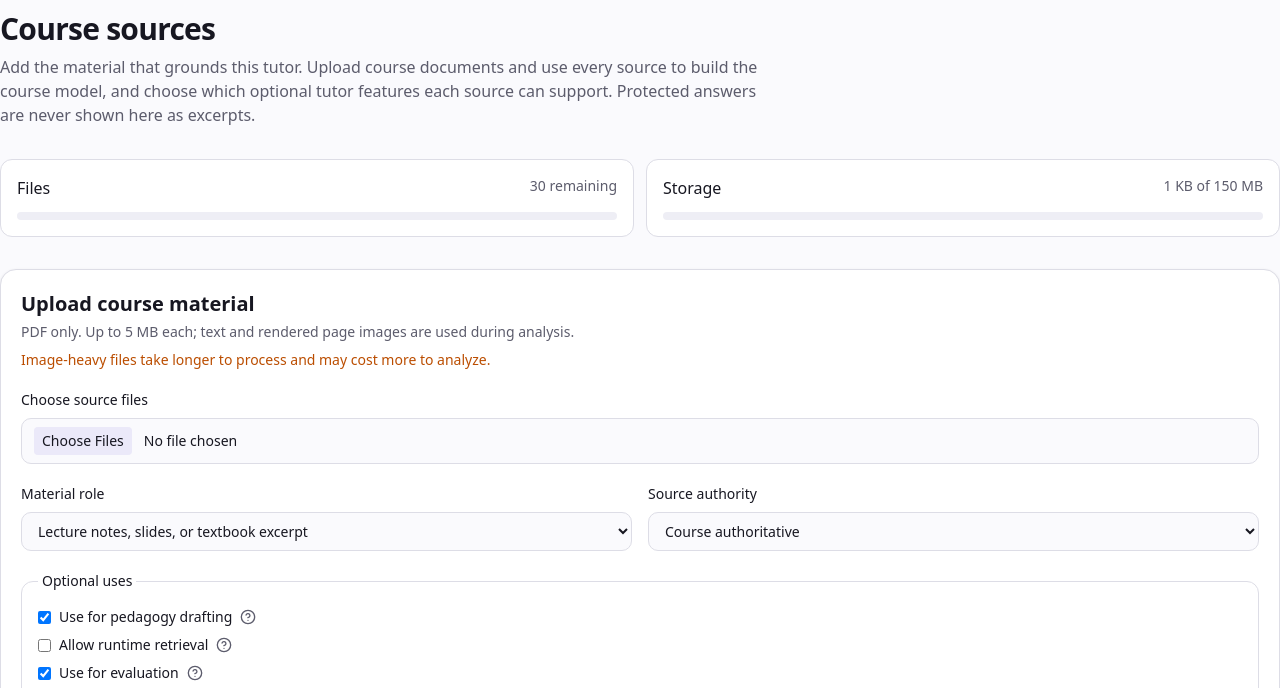
Test case: SourceWorkspace › uses every source for the course model and explains optional uses
The image size is (1280, 688).
Click the button named "About Allow runtime retrieval". click: [224, 645]
box: x1=216 y1=637 x2=232 y2=653
(page scrolled)
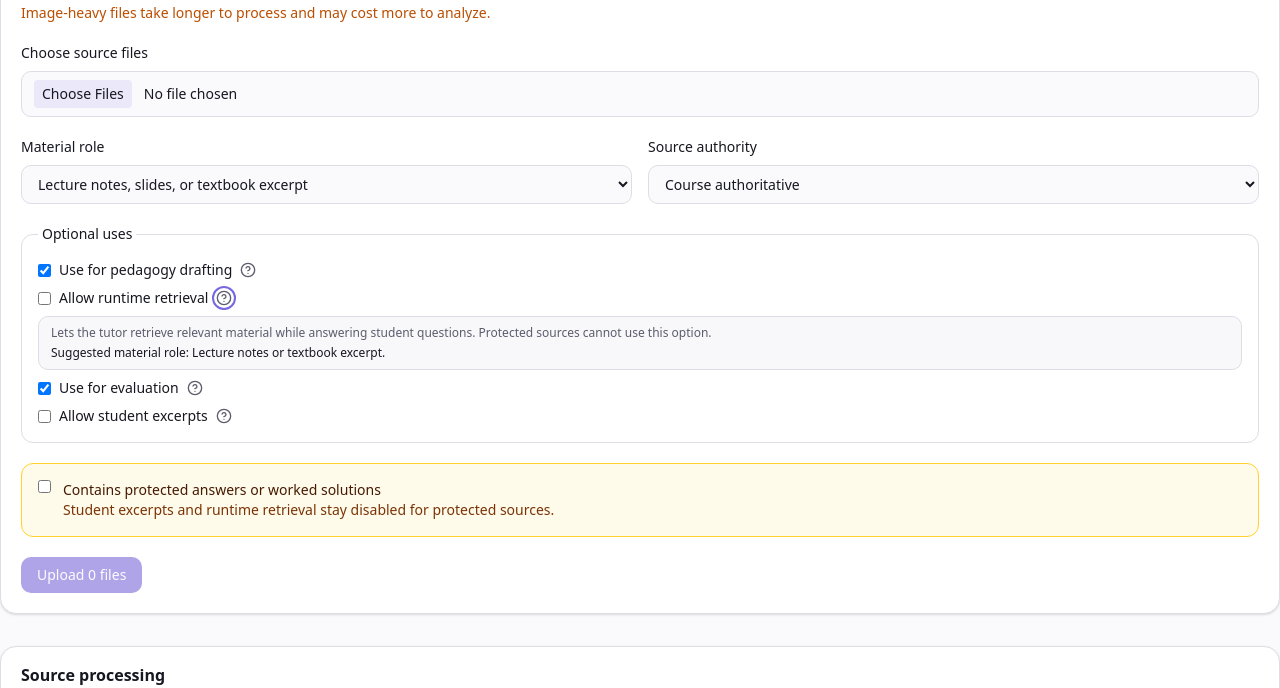
Expected: the tooltip shows "Suggested material role: Lecture notes or textbook excerpt.", x1=38 y1=316 x2=1242 y2=370
